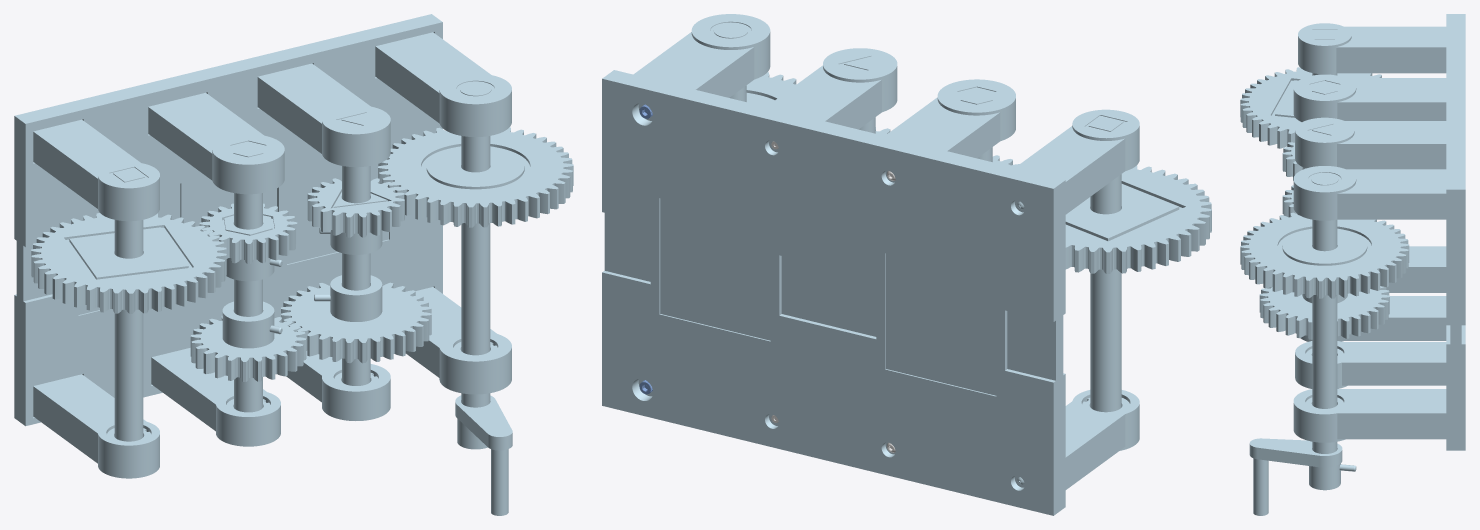
Rendered from GearboxAssemblyFinal.gltf.
The picture shows the model from 3 angles, left to right: view 1: azimuth 30°, elevation 25°; view 2: azimuth 150°, elevation 25°; view 3: azimuth 270°, elevation 25°; orthographic projection. The views are drawn at different scales.
Visible parts, largest first — view 1: Part 1 (×14), Spur gear (42 teeth) (×2), Spur gear (20 teeth) (×2), Spur gear (32 teeth), Spur gear (24 teeth); view 2: Part 1 (×7), Spur gear (42 teeth) (×2); view 3: Part 1 (×11), Spur gear (42 teeth) (×2), Spur gear (32 teeth), Spur gear (20 teeth) (×2).
Boxes of the visible parts, x1=… form: Part 1 (×14): x1=14, y1=14, x2=512, y2=515; Spur gear (42 teeth) (×2): x1=31, y1=127, x2=573, y2=313; Spur gear (20 teeth) (×2): x1=199, y1=178, x2=404, y2=281; Spur gear (32 teeth): x1=281, y1=275, x2=431, y2=363; Spur gear (24 teeth): x1=190, y1=301, x2=306, y2=381; Part 1 (×7): x1=602, y1=14, x2=1139, y2=515; Spur gear (42 teeth) (×2): x1=746, y1=72, x2=1211, y2=273; Part 1 (×11): x1=1249, y1=14, x2=1465, y2=515; Spur gear (42 teeth) (×2): x1=1240, y1=67, x2=1409, y2=298; Spur gear (32 teeth): x1=1259, y1=286, x2=1389, y2=339; Spur gear (20 teeth) (×2): x1=1282, y1=142, x2=1305, y2=217.
Bounding box in the file's own units: 0.402 × 0.297 × 0.176.
